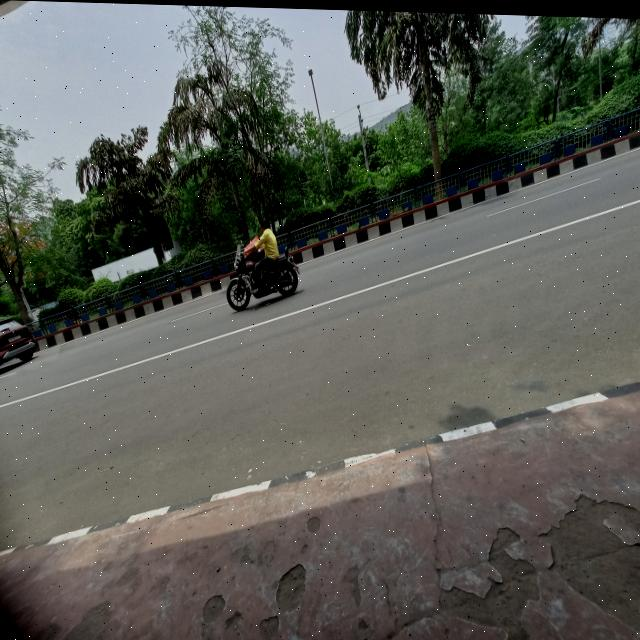bike: (222, 244, 305, 315)
